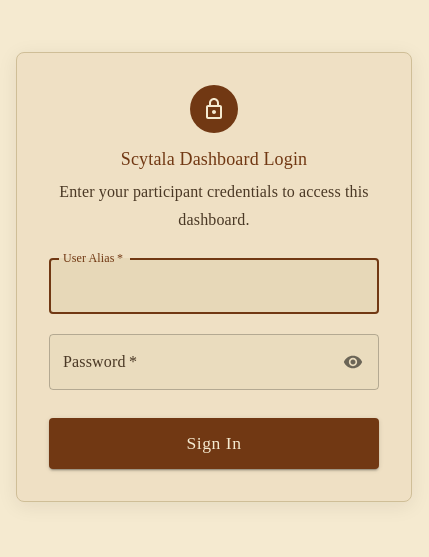
Test: LoginForm Client Component › clears previous errors when submitting the form again
The width and height of the screenshot is (429, 557).
Type "BadAlias" into the field labelled "User Alias". click: x=214, y=286
box: x1=49 y1=258 x2=379 y2=314
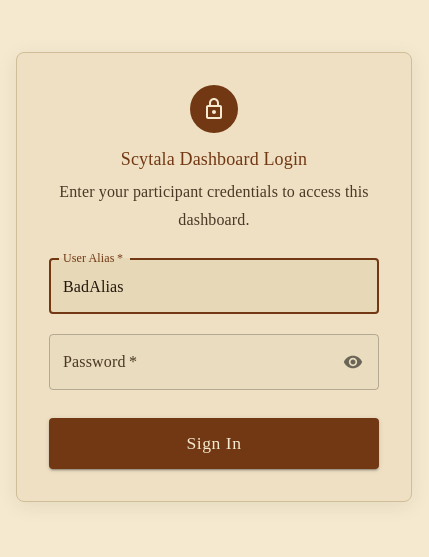
Type "BadPass" into the password field labelled "Password". click: x=190, y=362
box: x1=49 y1=334 x2=330 y2=390
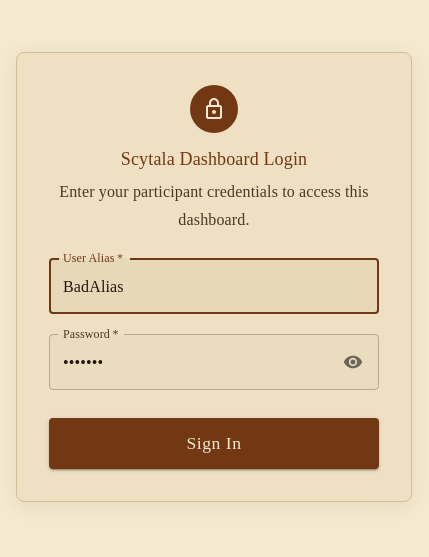
Click the button "Sign In". click: x=214, y=444
box: x1=49 y1=418 x2=379 y2=469
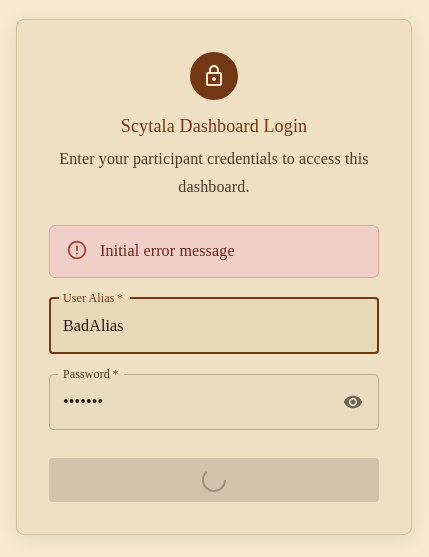
Result: the text "Initial error message" is shown at x1=100 y1=242 x2=235 y2=259
Replace the text in the field labelled "User Alias" with "GoodAlias". click: x=214, y=326
box: x1=49 y1=298 x2=379 y2=354
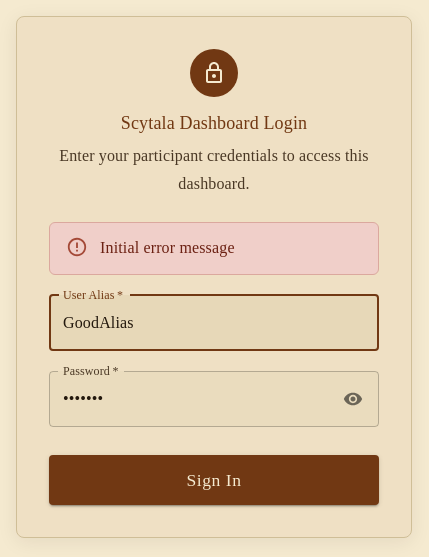
Type "GoodPass" into the password field labelled "Password". click: x=190, y=398
box: x1=49 y1=370 x2=330 y2=426
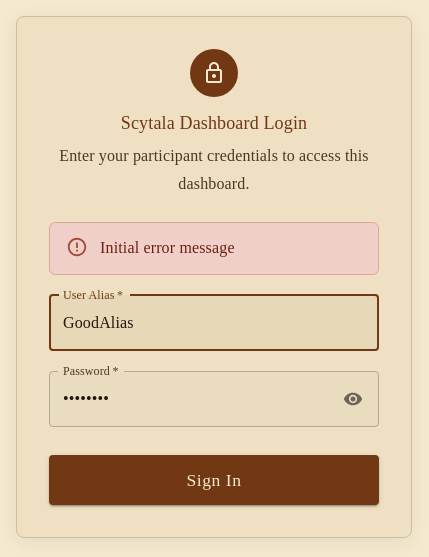
Click the button "Sign In". click: x=214, y=480
box: x1=49 y1=454 x2=379 y2=505
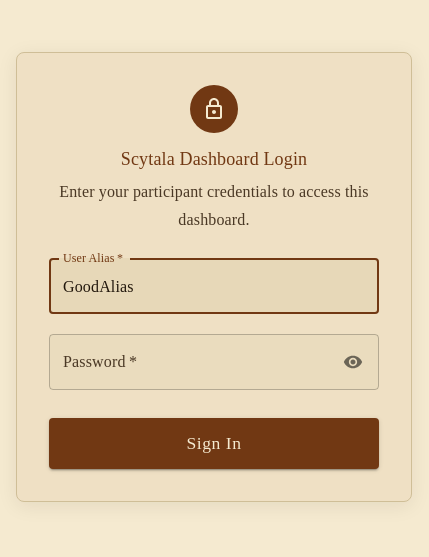
Result: the text "Initial error message" is gone
